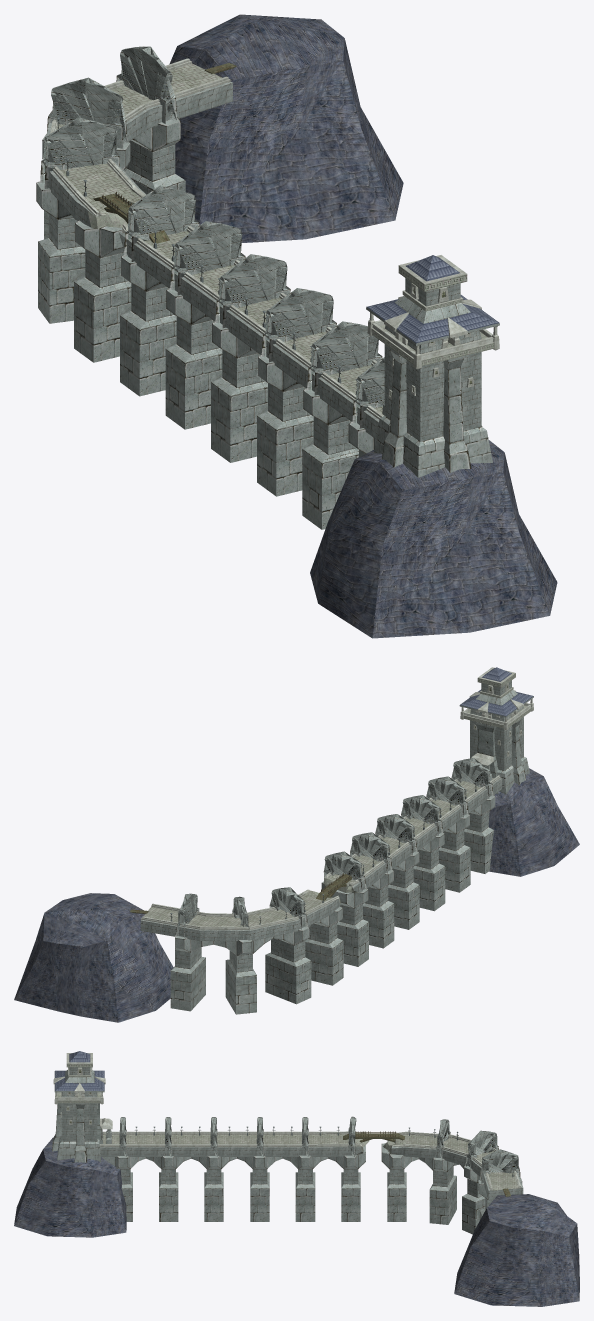
The model's file is lighthouse.FBX.
3 renders of one model, top to bottom at view 1: azimuth 30°, elevation 25°; view 2: azimuth 150°, elevation 25°; view 3: azimuth 270°, elevation 25°, orthographic. The views are drawn at different scales.
Parts seen in each view (by area): view 1: bridge_base_00, coast, Rock, bridge_00, beacon_00, bridge_column_06, bridge_column_01, bridge_column_07, bridge_column_00, bridge_column_04, bridge_column_05, bridge_column_02 (+4 smaller); view 2: bridge_base_00, coast, bridge_00, Rock, beacon_00, bridge_column_03, bridge_column_01, bridge_column_04, bridge_column_02, bridge_column_00, beacon_entrance_00, bridge_column_05 (+3 smaller); view 3: bridge_base_00, coast, bridge_00, Rock, beacon_00, bridge_column_08, bridge_column_07, beacon_contreforce_01, bridge_column_06.
Part boxes in pixels (x1,y1,x2,y2): bridge_base_00: [36, 117, 375, 529]; coast: [169, 14, 403, 242]; Rock: [310, 440, 557, 638]; bridge_00: [43, 58, 384, 438]; beacon_00: [366, 255, 499, 477]; bridge_column_06: [40, 117, 119, 188]; bridge_column_01: [261, 288, 336, 362]; bridge_column_07: [47, 77, 127, 148]; bridge_column_00: [215, 254, 290, 328]; bridge_column_04: [170, 221, 245, 295]; bridge_column_05: [124, 186, 199, 261]; bridge_column_02: [307, 321, 382, 395]; bridge_base_00: [170, 794, 495, 1014]; coast: [14, 893, 173, 1022]; bridge_00: [140, 775, 502, 941]; Rock: [488, 768, 579, 876]; beacon_00: [459, 667, 533, 794]; bridge_column_03: [451, 758, 493, 798]; bridge_column_01: [401, 795, 442, 835]; bridge_column_04: [350, 832, 391, 873]; bridge_column_02: [426, 776, 468, 817]; bridge_column_00: [375, 814, 416, 854]; beacon_entrance_00: [471, 721, 498, 793]; bridge_column_05: [323, 851, 366, 891]; bridge_base_00: [102, 1143, 522, 1234]; coast: [454, 1194, 579, 1306]; bridge_00: [99, 1131, 523, 1200]; Rock: [14, 1138, 126, 1237]; beacon_00: [53, 1051, 105, 1162]; bridge_column_08: [480, 1149, 520, 1183]; bridge_column_07: [465, 1130, 498, 1168]; beacon_contreforce_01: [74, 1103, 86, 1162]; bridge_column_06: [435, 1119, 450, 1159].
Size of the model in its own units: 7890 by 4933 by 15485.
